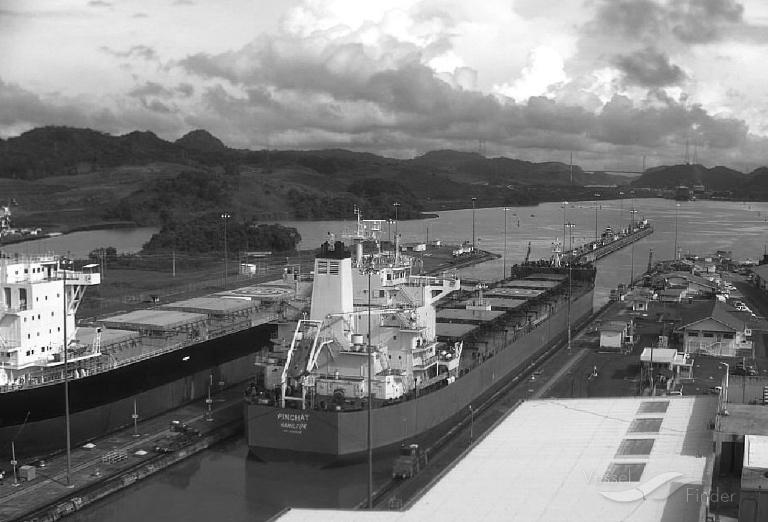OCR: (267, 410, 316, 442)
